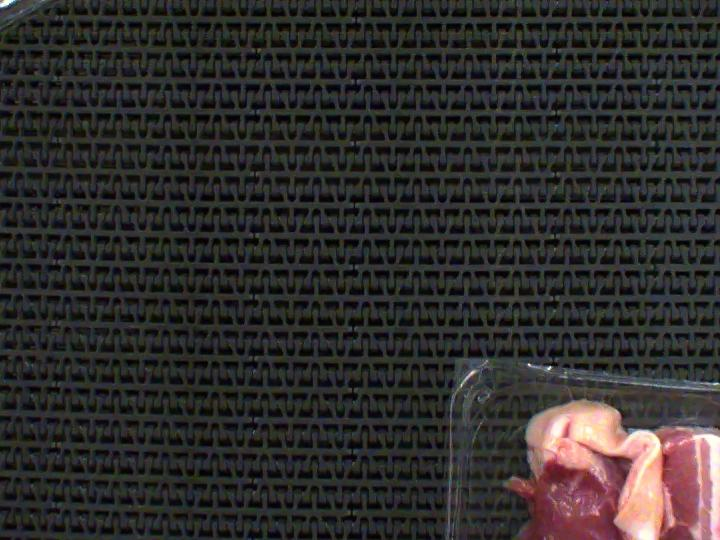packaging-error: (564, 379, 624, 407)
